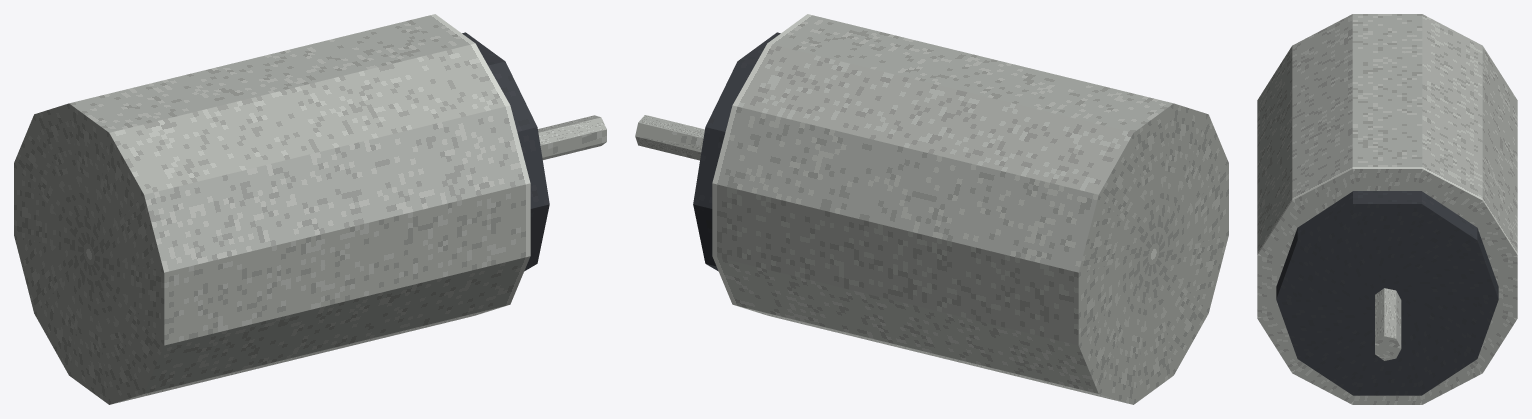
Rendered from motor_micro.glb.
The picture shows the model from 3 angles, left to right: view 1: azimuth 30°, elevation 25°; view 2: azimuth 150°, elevation 25°; view 3: azimuth 270°, elevation 25°; orthographic projection. The views are drawn at different scales.
Parts seen in each view (by area): view 1: block_component body, block_terminal collar, block_contact; view 2: block_component body, block_terminal collar, block_contact; view 3: block_component body, block_terminal collar, block_contact.
Boxes of the visible parts, x1,y1,x2,y2 form: block_component body: (14, 14, 530, 404); block_terminal collar: (462, 32, 549, 271); block_contact: (538, 115, 606, 159); block_component body: (712, 14, 1228, 404); block_terminal collar: (693, 32, 780, 271); block_contact: (635, 115, 704, 160); block_component body: (1257, 14, 1517, 404); block_terminal collar: (1276, 191, 1498, 395); block_contact: (1375, 288, 1401, 360).
Size of the model in its own units: 0.055 by 0.028 by 0.028.
1 material, 1 textured.
